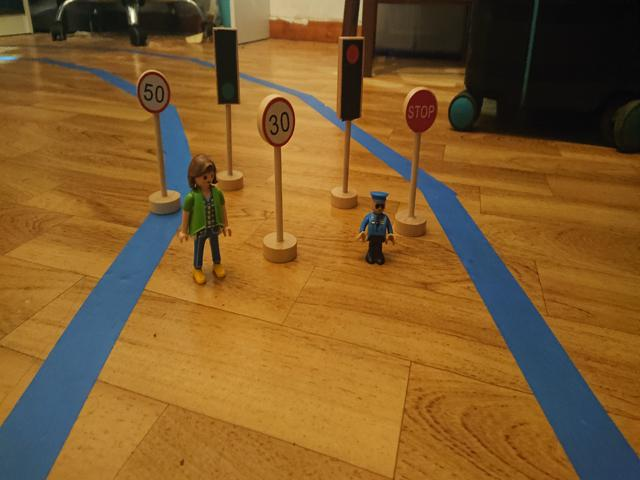30 speed sign: (260, 97, 296, 147)
50 speed sign: (139, 72, 171, 115)
green light: (213, 32, 238, 104)
person: (177, 151, 234, 286), (355, 189, 398, 266)
red light: (341, 40, 362, 123)
stop sign: (405, 90, 438, 134)
